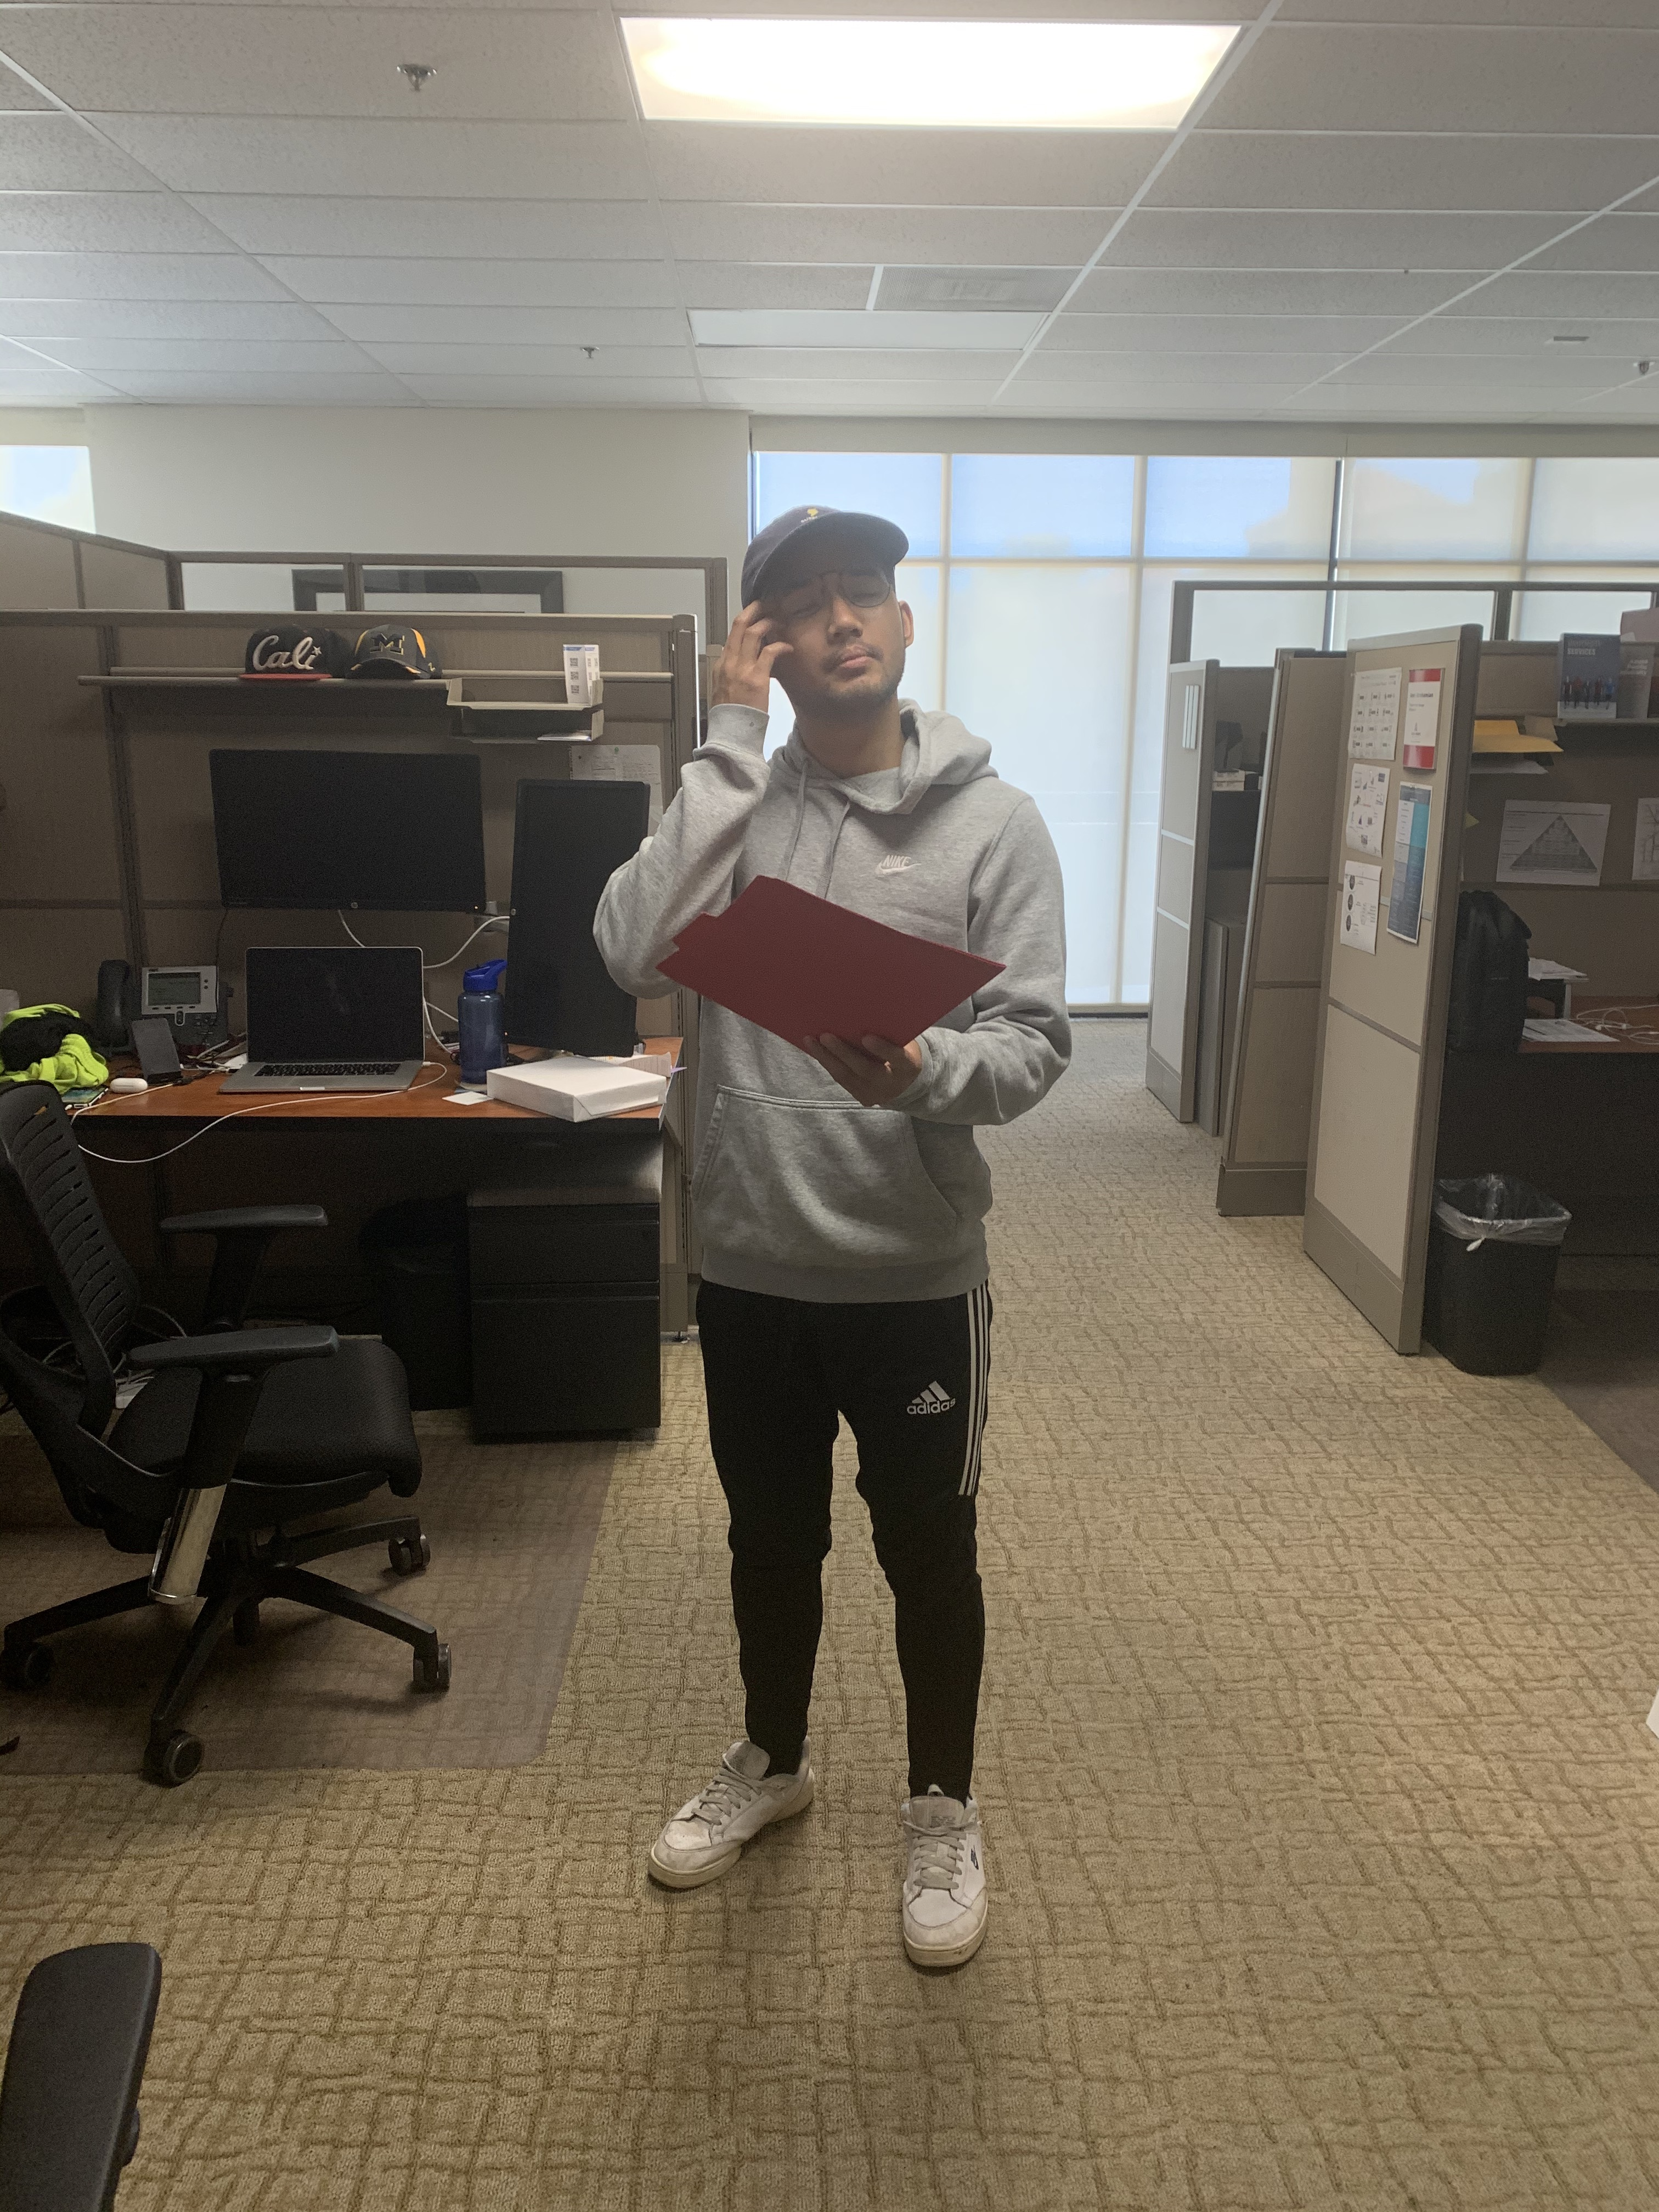red folder: (638, 845, 1018, 1085)
